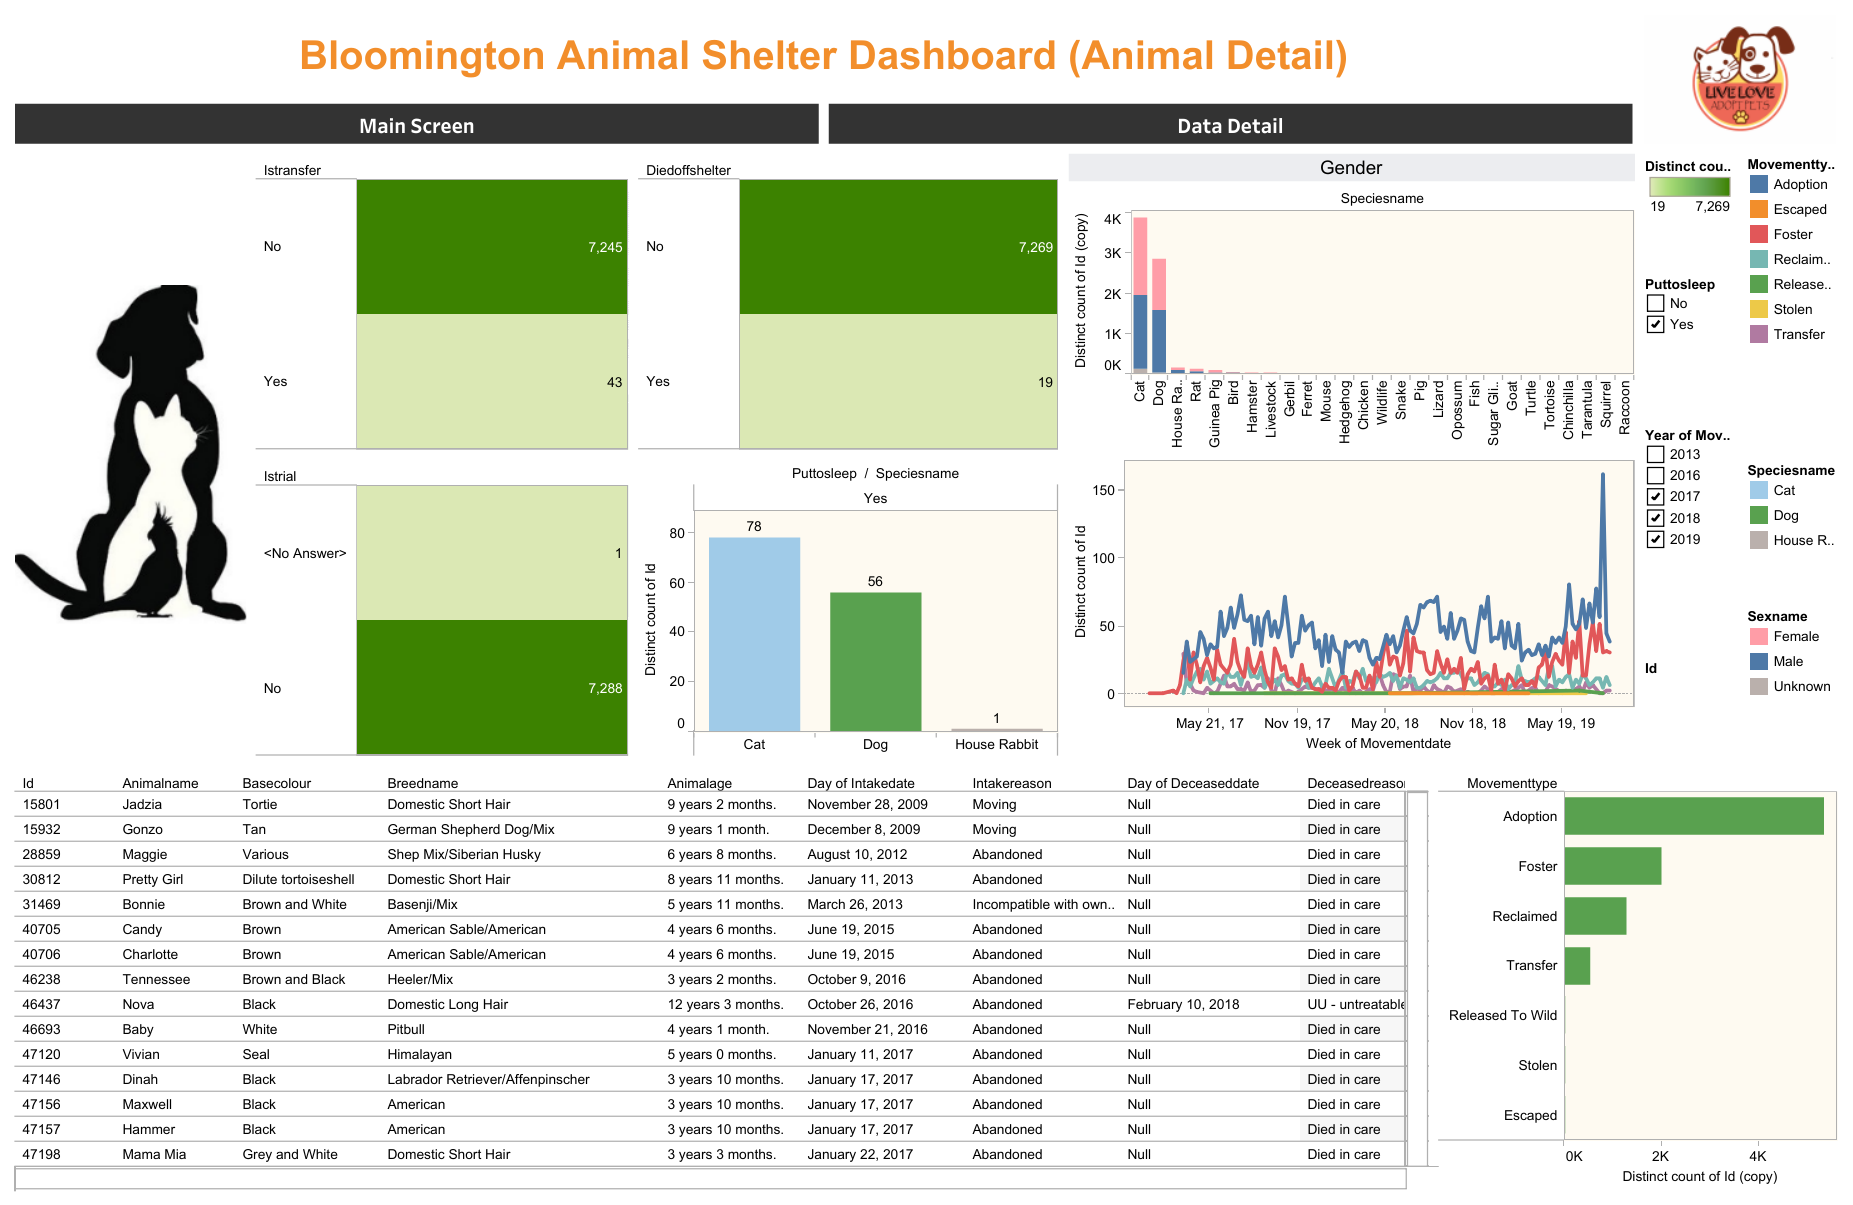

This screenshot's page, from the dashboard's own definition file:
{"tool":"tableau","page":{"name":"DashboardDetail","canvas":[1000,1000],"units":"permille","ordinal":1},"visuals":[{"type":"text","box":[4.9,9.4,879.3,73.9]},{"type":"image","param":"Image/cropped-LLAPETS-LOGO-2-1.png","box":[884.2,9.4,110.8,115.1]},{"type":"dashboard-object","box":[4.9,83.3,439.7,41.1]},{"type":"dashboard-object","box":[444.6,83.3,439.7,41.1]},{"type":"image","param":"Image/Screenshot_DogCatBird.jpg","box":[4.9,124.5,130.4,506.5]},{"type":"worksheet","title":"XFER","mark":"Square","rows":["istransfer"],"box":[135.3,124.5,206.9,253.3]},{"type":"worksheet","title":"DiedOffSite","mark":"Square","rows":["diedoffshelter"],"box":[342.2,124.5,232.2,253.3]},{"type":"worksheet","title":"Gender","mark":"Automatic","rows":["Id (copy)_1092685897127677958"],"cols":["speciesname"],"box":[574.4,124.5,311.4,253.3]},{"type":"legend","title":"DiedOffSite","param":"[federated.0cm41il1nn5mlk1ei0d441y2iy9r].[ctd:Id (copy)_1092685897127677958:qk]","box":[885.8,124.5,54.6,99.9]},{"type":"legend","title":"MoveDate","param":"[federated.0cm41il1nn5mlk1ei0d441y2iy9r].[none:movementtype:nk]","box":[940.4,124.5,54.6,253.3]},{"type":"filter","title":"PTS","param":"[federated.0cm41il1nn5mlk1ei0d441y2iy9r].[none:puttosleep:ok]","box":[885.8,224.4,54.6,125.8]},{"type":"filter","title":"MoveDate","param":"[federated.0cm41il1nn5mlk1ei0d441y2iy9r].[yr:movementdate:ok]","box":[885.8,350.2,54.6,192.7]},{"type":"worksheet","title":"Trial","mark":"Square","rows":["istrial"],"box":[135.3,377.7,206.9,253.2]},{"type":"worksheet","title":"PTS","mark":"Automatic","rows":["id"],"cols":["puttosleep","speciesname"],"box":[342.2,377.7,232.2,253.2]},{"type":"worksheet","title":"MoveDate","mark":"Automatic","rows":["id"],"cols":["movementdate"],"box":[574.4,377.7,311.4,253.2]},{"type":"legend","title":"PTS","param":"[federated.0cm41il1nn5mlk1ei0d441y2iy9r].[none:speciesname:nk]","box":[940.4,377.7,54.6,121.7]},{"type":"legend","title":"Gender","param":"[federated.0cm41il1nn5mlk1ei0d441y2iy9r].[none:sexname:nk]","box":[940.4,499.4,54.6,131.6]},{"type":"filter","title":"Detail","param":"[federated.0cm41il1nn5mlk1ei0d441y2iy9r].[none:id:ok]","box":[885.8,542.9,54.6,88.1]},{"type":"worksheet","title":"Detail","mark":"Automatic","rows":["id","animalname","basecolour","breedname","animalage","intakedate","intakereason","deceaseddate","deceasedreason"],"box":[4.9,631,769.6,359.6]},{"type":"worksheet","title":"MoveType","mark":"Automatic","rows":["movementtype"],"cols":["Id (copy)_1092685897127677958"],"box":[774.5,631,220.6,359.6]}]}

Visuals, with their boxes on the dashboard's canvas, which has no fixed pixel size, in thousandths of its width and height (x1, y1, x2, y2). These are canvas units, not pixel positions in the 1853x1205 screenshot, which may show the page scaled, cropped or inside an application window:
text: bbox=(5, 9, 884, 83)
image: bbox=(884, 9, 995, 124)
dashboard-object: bbox=(5, 83, 445, 124)
dashboard-object: bbox=(445, 83, 884, 124)
image: bbox=(5, 124, 135, 631)
"XFER" worksheet (Square marks): bbox=(135, 124, 342, 378)
"DiedOffSite" worksheet (Square marks): bbox=(342, 124, 574, 378)
"Gender" worksheet: bbox=(574, 124, 886, 378)
"DiedOffSite" legend: bbox=(886, 124, 940, 224)
"MoveDate" legend: bbox=(940, 124, 995, 378)
"PTS" filter: bbox=(886, 224, 940, 350)
"MoveDate" filter: bbox=(886, 350, 940, 543)
"Trial" worksheet (Square marks): bbox=(135, 378, 342, 631)
"PTS" worksheet: bbox=(342, 378, 574, 631)
"MoveDate" worksheet: bbox=(574, 378, 886, 631)
"PTS" legend: bbox=(940, 378, 995, 499)
"Gender" legend: bbox=(940, 499, 995, 631)
"Detail" filter: bbox=(886, 543, 940, 631)
"Detail" worksheet: bbox=(5, 631, 774, 991)
"MoveType" worksheet: bbox=(774, 631, 995, 991)
